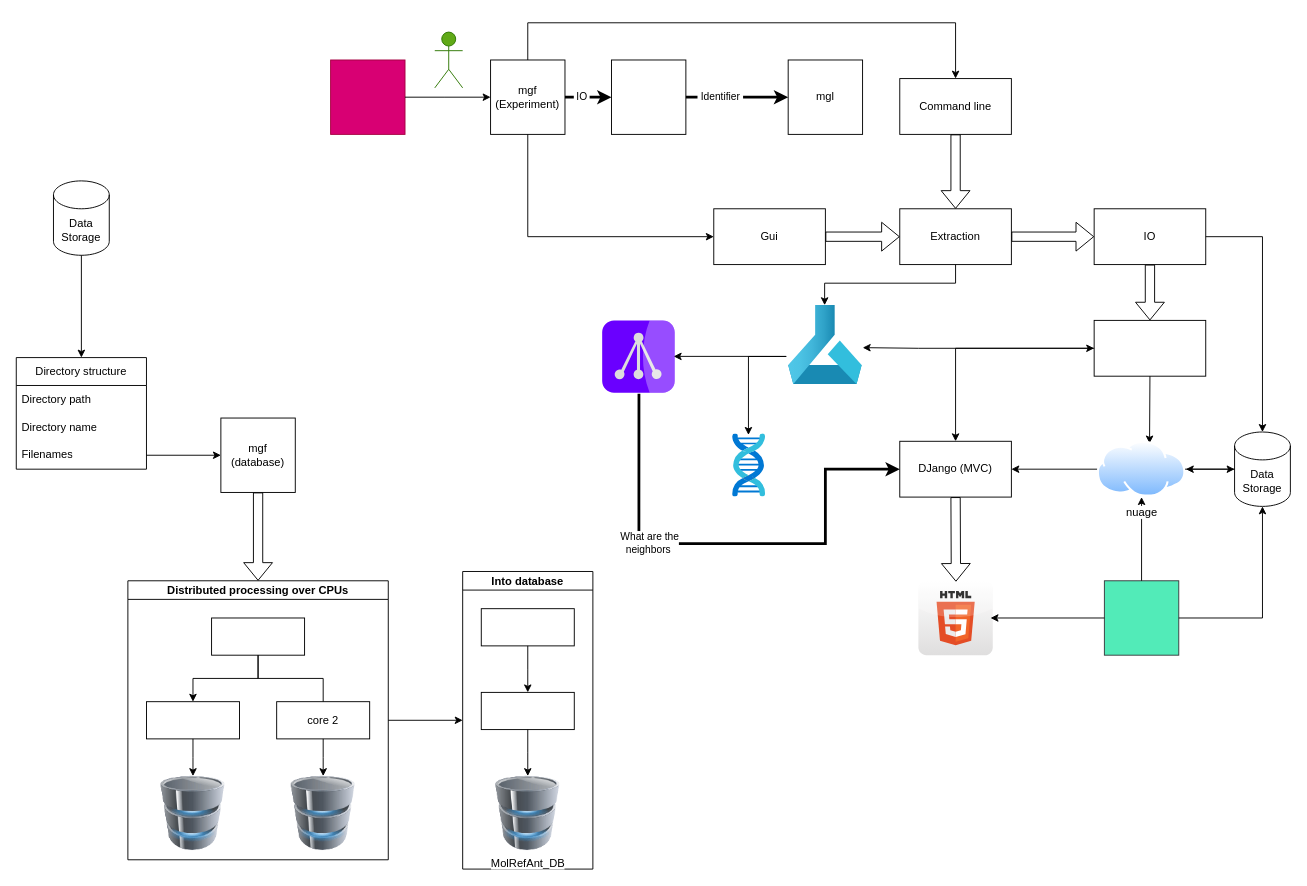
Some shapes in this 1307 by 886 pixel diagram are drawn without their labels. Here are the shapes that lost their labels. From the top down, the centre of each, then its label:
At point 367,96: "MZMine3".
At point 648,96: "metgem".
At point 1149,347: "DataBase".
At point 258,636: "CPU".
At point 527,627: "Json".
At point 1141,617: "User".
At point 192,720: "core 1".
At point 527,710: "SQL".
